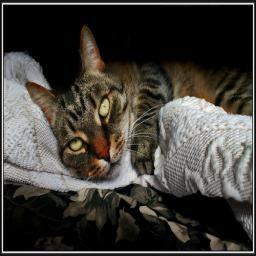catnose: (93, 143, 114, 165)
